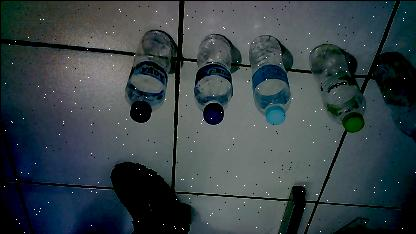Plastic Bottle: (308, 43, 366, 132), (123, 29, 171, 121), (370, 51, 416, 144), (193, 33, 233, 126), (249, 34, 290, 124)
